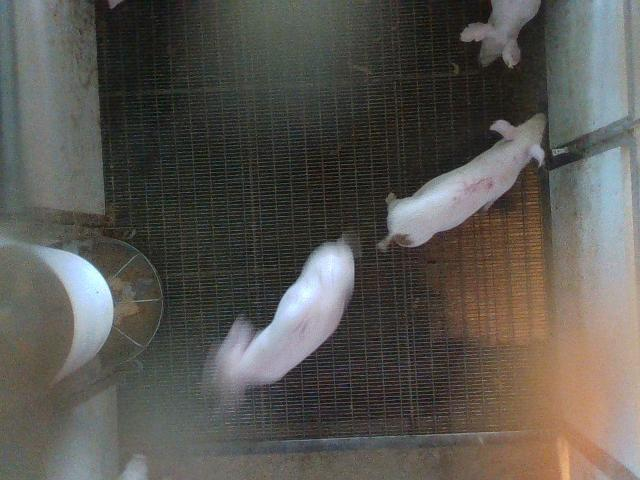pig-5: (378, 114, 545, 249)
